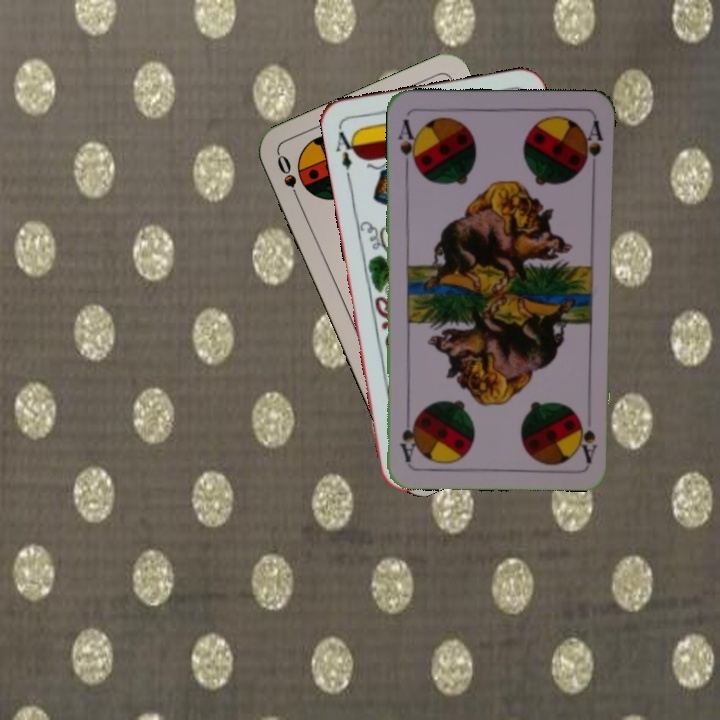EA: (332, 127, 360, 183)
SA: (393, 115, 420, 173), (577, 416, 600, 464)
SO: (273, 150, 304, 207)
